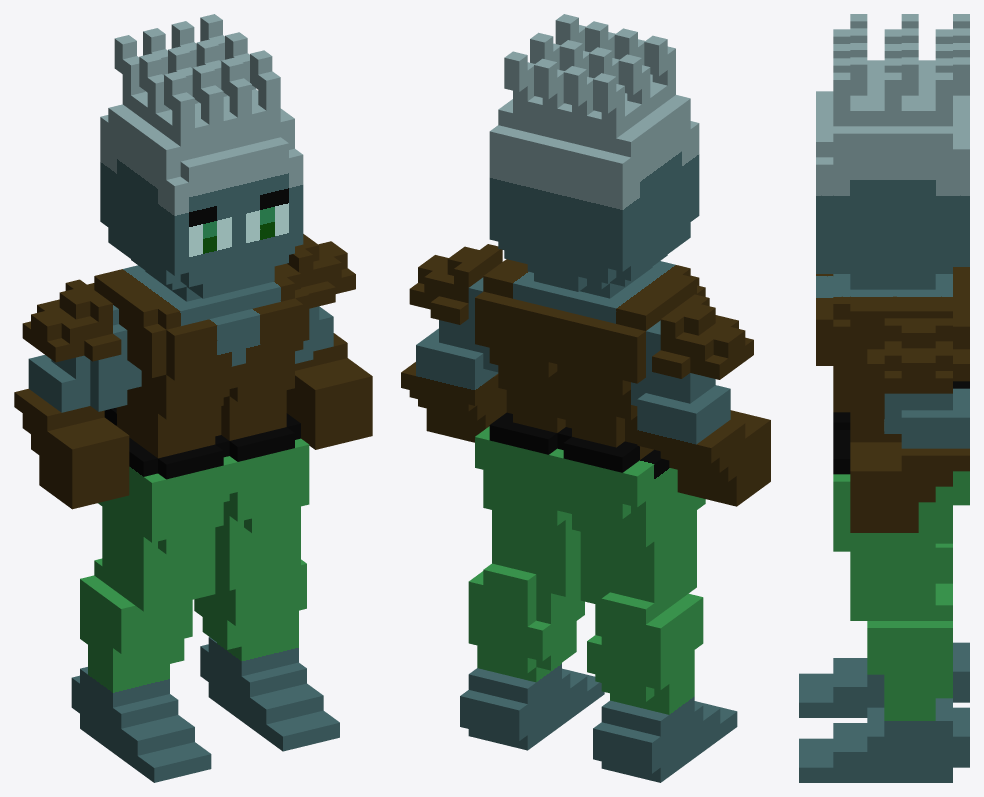
The model's file is Wartok.fbx.
3 views of the same model, side by side, from view 1: azimuth 30°, elevation 25°; view 2: azimuth 150°, elevation 25°; view 3: azimuth 270°, elevation 25° (orthographic). The views are drawn at different scales.
Visible parts, largest first — view 1: Wartok.Merged; view 2: Wartok.Merged; view 3: Wartok.Merged.
Part boxes in pixels (<box>): Wartok.Merged: <box>14,14,372,782</box>; Wartok.Merged: <box>401,14,770,782</box>; Wartok.Merged: <box>799,14,969,782</box>.
Size of the model in its own units: 210 by 450 by 100.
Materials: 1 (1 with a texture image).
